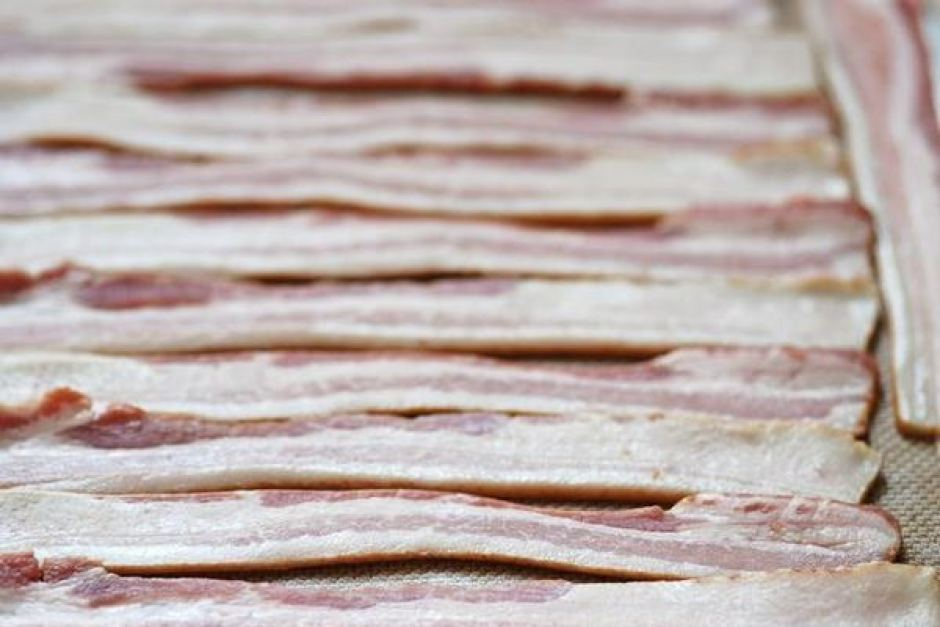bacon: (32, 41, 885, 550)
